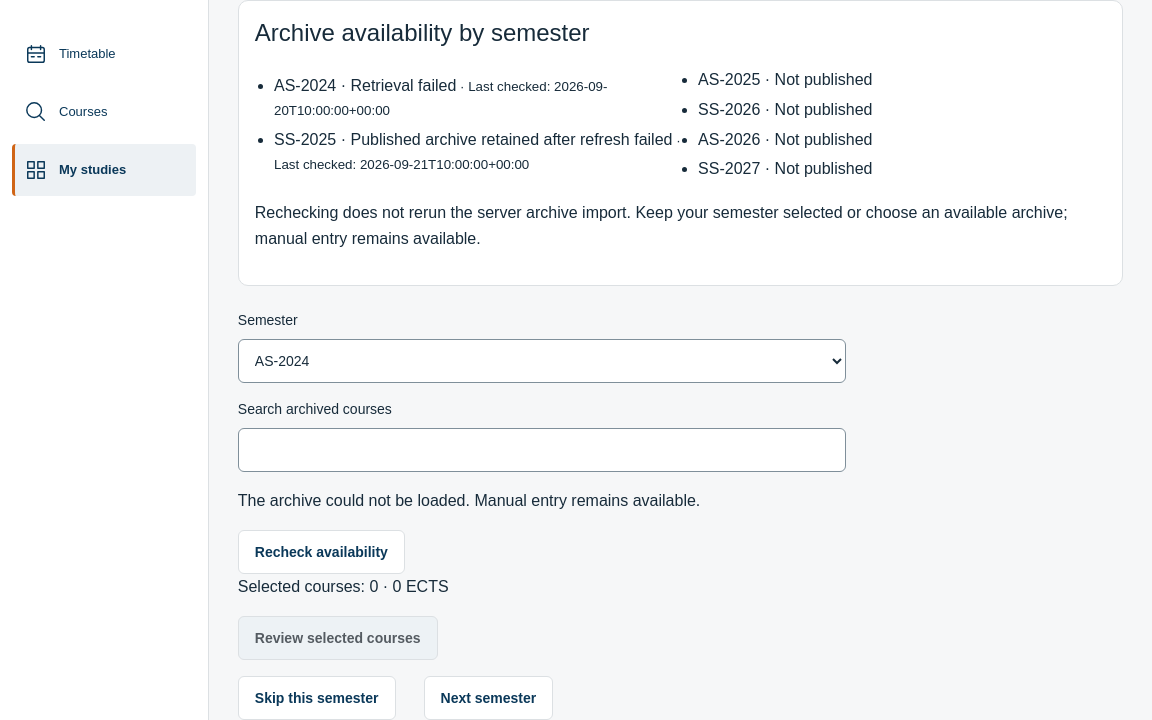
Test: shows term-specific archive availability, retains a failed-refresh archive, and explains recheck
The image size is (1152, 720).
(page scrolled)
Check: the text "AS-2024 · Retrieval failed" is shown, box 274,77 -> 456,94
Check: the text "SS-2025 · Published archive retained after refresh failed" is shown, box 274,130 -> 672,148
Select "SS-2025" in the dropdown labelled "Semester". click: (542, 361)
box: 238,339 -> 846,383
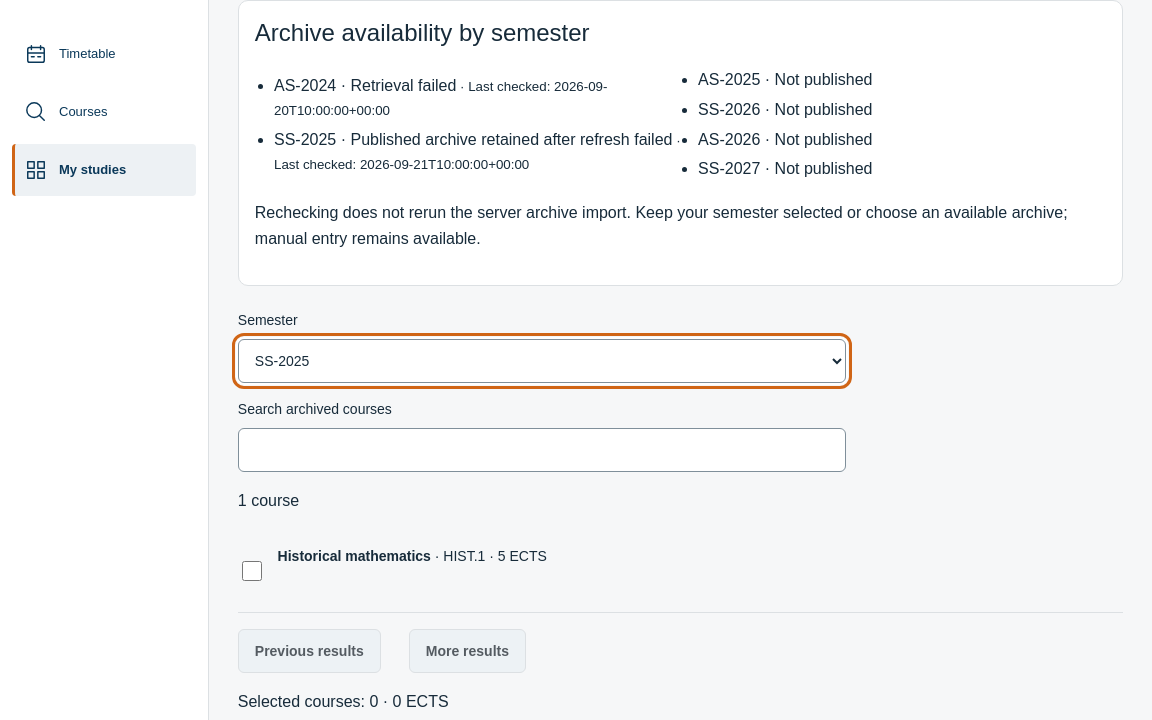
Check: the checkbox labelled "Historical mathematics · HIST.1 · 5 ECTS" is enabled, box 242,549 -> 262,593
